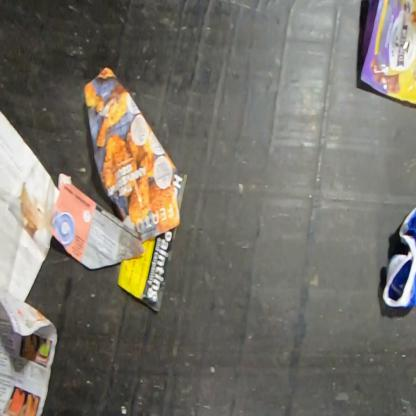soft_plastic: (359, 0, 415, 108)
